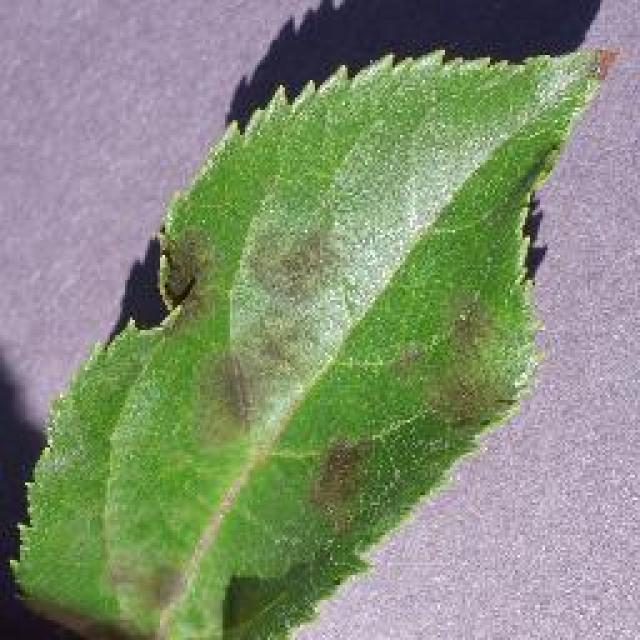apple scab disease: (5, 40, 617, 638)
